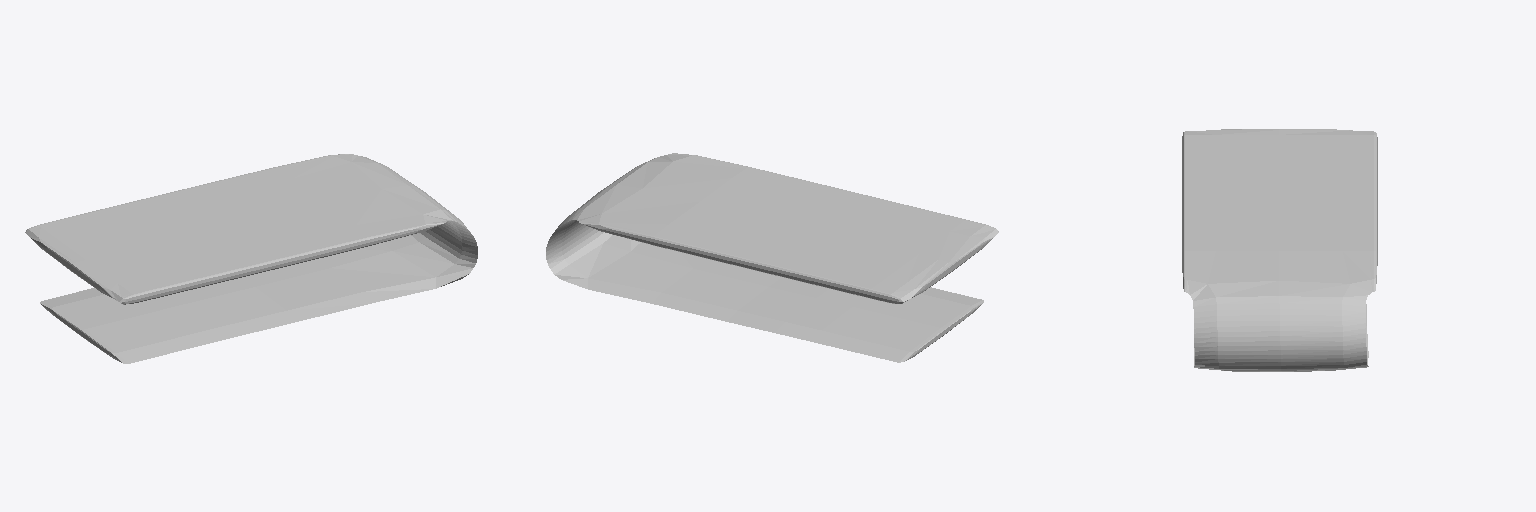
Rendered from table.obj.
The picture shows the model from 3 angles: view 1: azimuth 30°, elevation 25°; view 2: azimuth 150°, elevation 25°; view 3: azimuth 270°, elevation 25°; orthographic projection.
Parts seen in each view (by area): view 1: Cube; view 2: Cube; view 3: Cube.
Boxes of the visible parts, x1,y1,x2,y2 form: Cube: [25, 154, 477, 363]; Cube: [546, 153, 998, 362]; Cube: [1182, 129, 1377, 371].
Bounding box in the file's own units: 6.63 × 1.3 × 3.04.